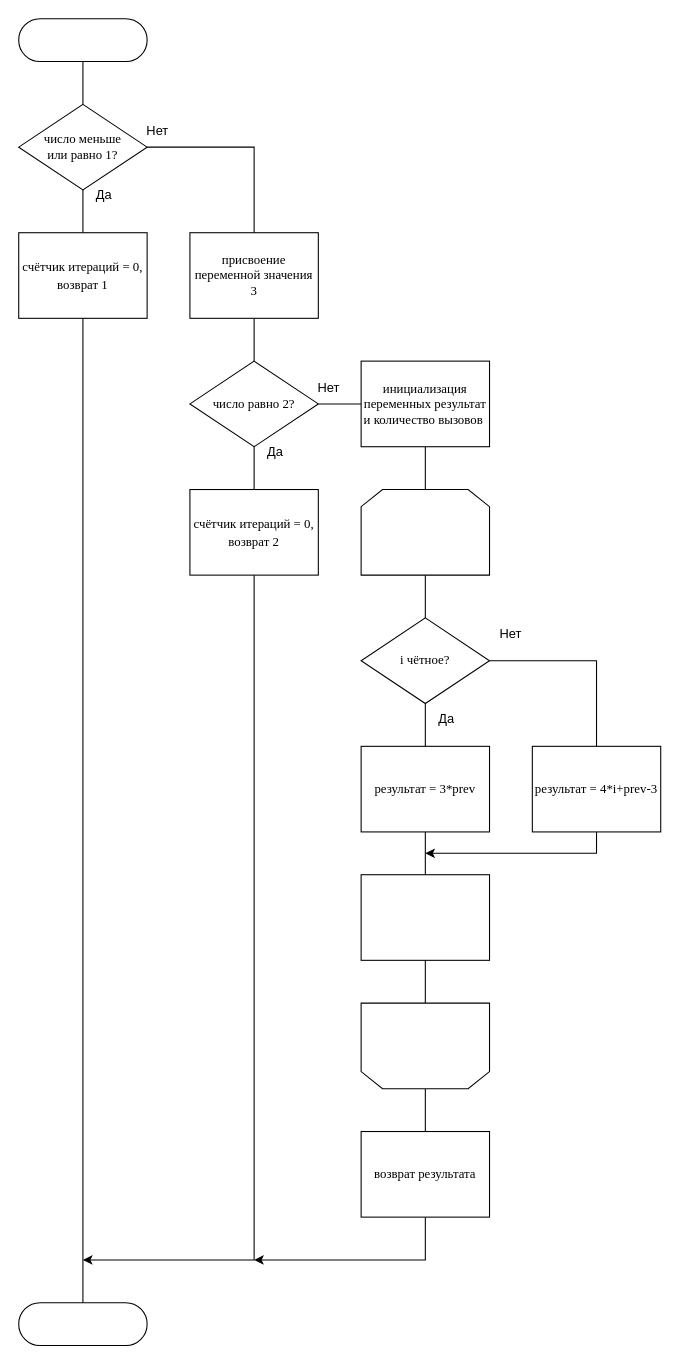
The diagram is 679 pixels wide and 1364 high, and some of its shapes have lost their labels. The shapes that lost their labels are listed below. From the top down, each one's centre as x and y in pixels, then its label:
At [82,40]: "Начало".
At [425,531]: "основной цикл, i <= n".
At [425,917]: "prev = результат, увеличиваем счётчик итераций".
At [425,1045]: "основной цикл".
At [82,1324]: "Конец".
